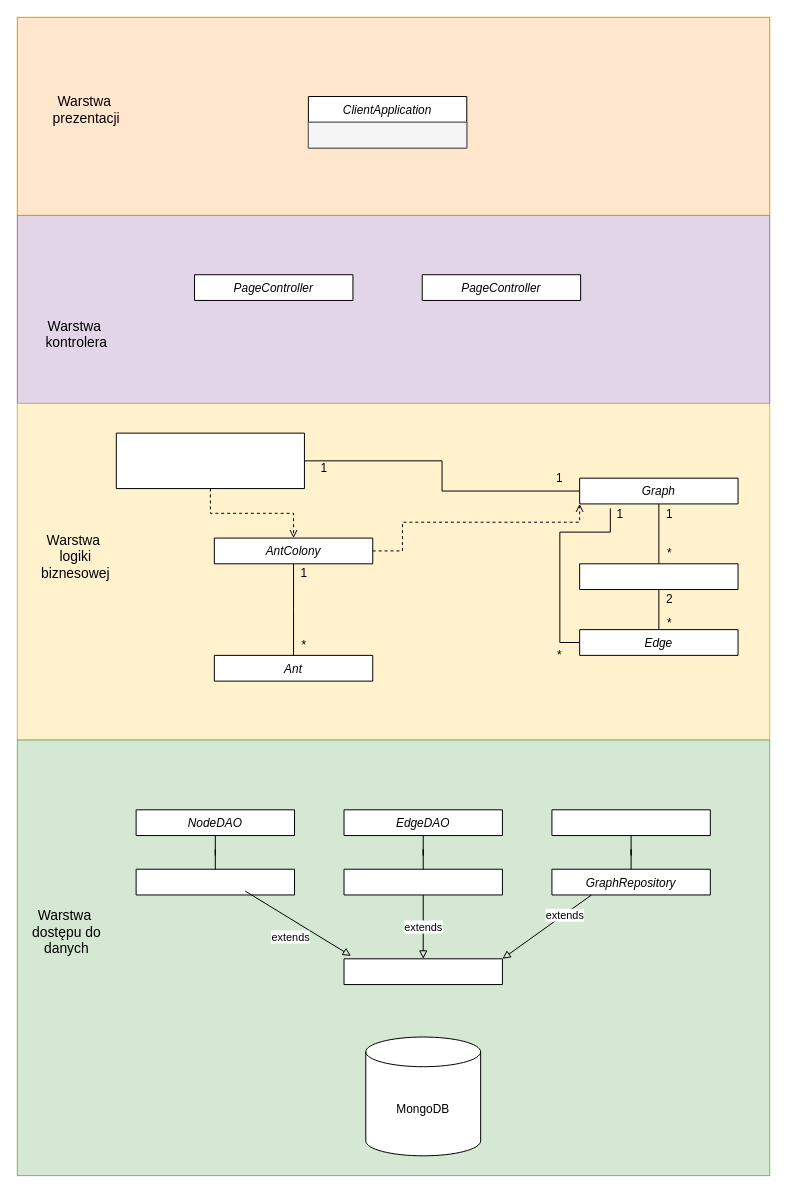
This 787x1193 diagram has some shape labels left out. The centre of each missing label's shape, as x and y in pixels:
"EdgeRepository" belongs at point (422, 881).
"GraphDAO" belongs at point (630, 822).
"GraphService" belongs at point (209, 460).
"MongoRepository" belongs at point (422, 971).
"Node" belongs at point (658, 576).
"NodeRepository" belongs at point (215, 881).
